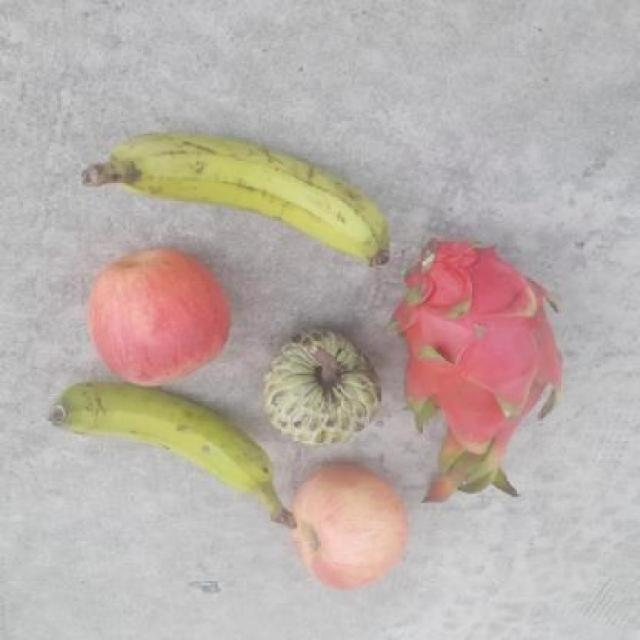apple: (85, 246, 233, 386), (288, 464, 408, 591)
banana: (82, 127, 396, 270), (47, 381, 301, 530)
dragon fruit: (389, 236, 568, 504)
sugar apple: (264, 325, 384, 447)
